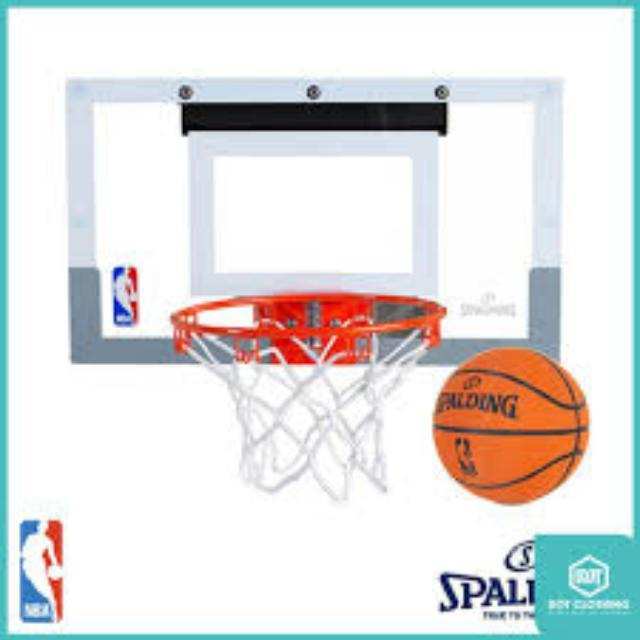basketball: (435, 350, 589, 502)
rim: (172, 294, 440, 486)
